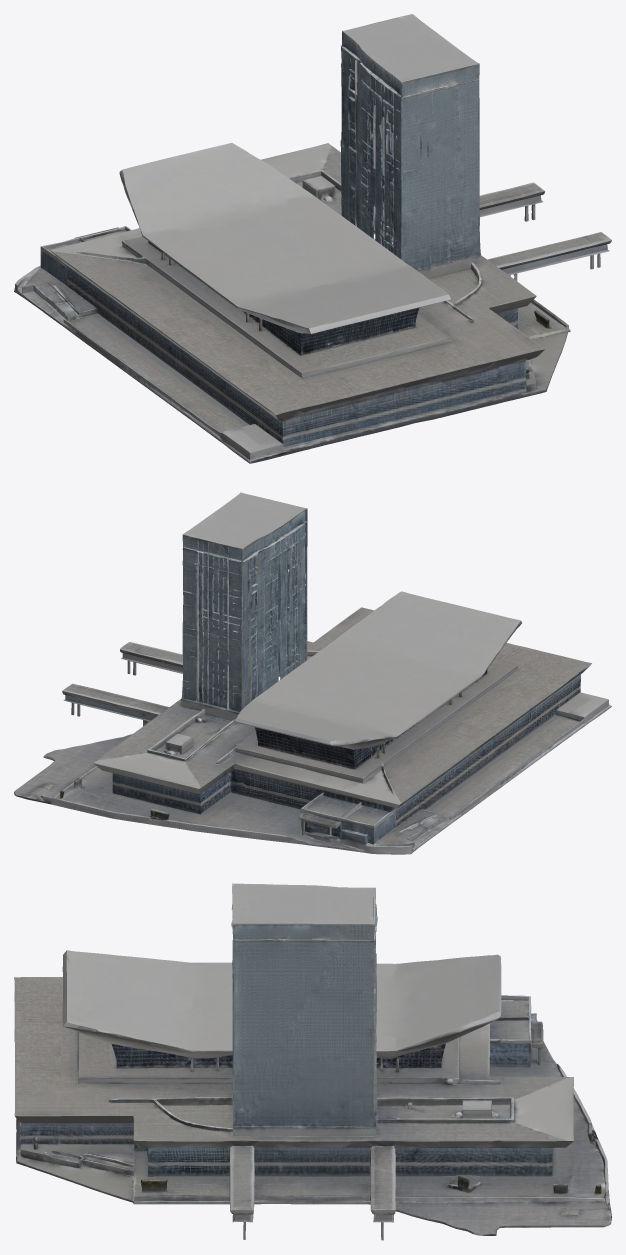
Rendered from aeroporto.glb.
3 renders of one model, top to bottom at view 1: azimuth 30°, elevation 25°; view 2: azimuth 150°, elevation 25°; view 3: azimuth 270°, elevation 25°, orthographic. The views are drawn at different scales.
Parts seen in each view (by area): view 1: aeroporto; view 2: aeroporto; view 3: aeroporto.
Boxes of the visible parts, x1,y1,x2,y2 form: aeroporto: (14,14,611,463); aeroporto: (14,492,611,854); aeroporto: (14,883,611,1240).
Bounding box in the file's own units: 235 × 119 × 249.
Materials: 1 (1 with a texture image).
